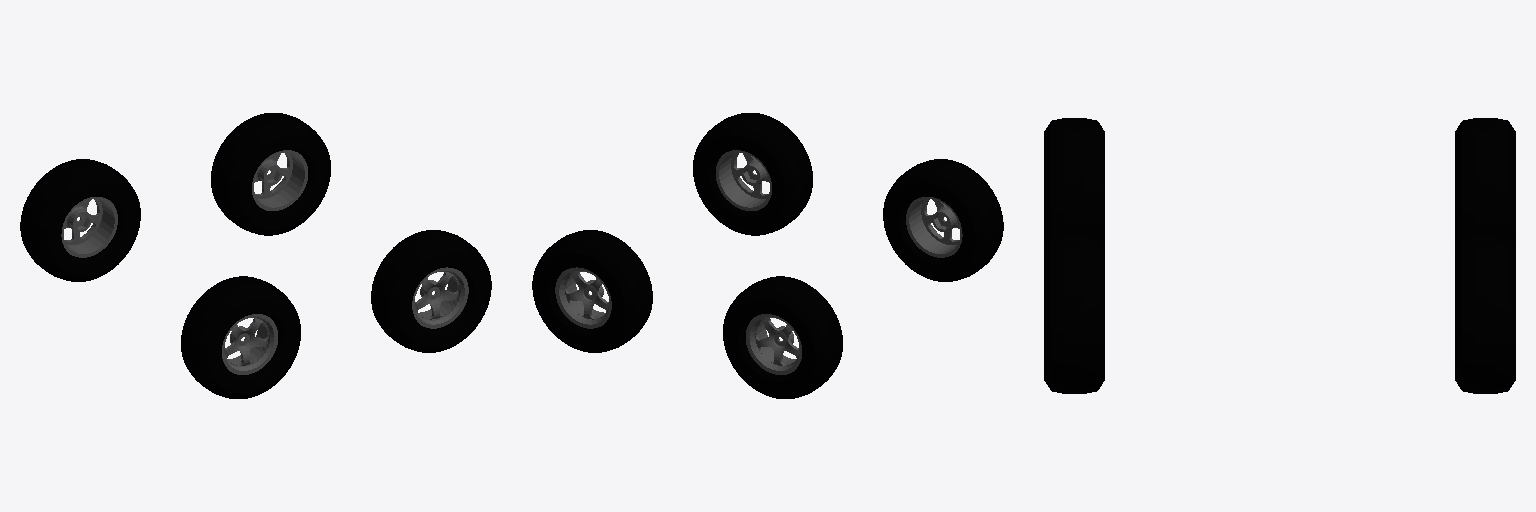
The robot description file, URDF, robot "rosbot_xl":
<?xml version="1.0" ?>
<!-- =================================================================================== -->
<!-- |    This document was autogenerated by xacro from [local-path]/ros2_ws/src/rosbot_xl_description/urdf/rosbot_xl.urdf.xacro | -->
<!-- |    EDITING THIS FILE BY HAND IS NOT RECOMMENDED                                 | -->
<!-- =================================================================================== -->
<robot name="rosbot_xl">
  <link name="base_link"/>
  <joint name="base_to_body_joint" type="fixed">
    <origin rpy="0.0 0.0 0.0" xyz="0.0 0.0 0.048"/>
    <parent link="base_link"/>
    <child link="body_link"/>
  </joint>
  <link name="body_link">
    <visual>
      <geometry>
        <mesh filename="meshes/body.fbx" scale="1 1 1"/>
      </geometry>
      <origin rpy="0.0 0.0 0.0" xyz="0.0 0.0 0.0"/>
    </visual>
    <collision>
      <geometry>
        <mesh filename="meshes/body_colision.stl" scale="1 1 1"/>
      </geometry>
      <origin rpy="0.0 0.0 0.0" xyz="0.0 0.0 0.0"/>
    </collision>
    <inertial>
      <mass value="3.5"/>
      <origin rpy="0.0 0.0 0.0" xyz="0.0 0.0 0.0358"/>
      <inertia ixx="0.01393" ixy="-0.000020968097" ixz="0.000010399694" iyy="0.01081" iyz="0.000059372953" izz="0.02048"/>
    </inertial>
  </link>
  <joint name="body_to_cover_joint" type="fixed">
    <origin rpy="0.0 0.0 0.0" xyz="0.0 0.0 0.08345"/>
    <parent link="body_link"/>
    <child link="cover_link"/>
  </joint>
  <link name="cover_link"/>
  <joint name="body_to_imu_joint" type="fixed">
    <origin rpy="3.14159 0.0 0.0" xyz="-0.1369 -0.0419 0.0370"/>
    <parent link="body_link"/>
    <child link="imu_link"/>
  </joint>
  <link name="imu_link"/>
  <joint name="fl_wheel_joint" type="continuous">
    <parent link="body_link"/>
    <child link="fl_wheel_link"/>
    <origin rpy="0.0 0.0 0.0" xyz="0.085 0.124 0.0"/>
    <axis xyz="0.0 1.0 0.0"/>
    <limit effort="1.27" velocity="21.0"/>
    <dynamics damping="0.001" friction="0.001"/>
  </joint>
  <link name="fl_wheel_link">
    <visual>
      <geometry>
        <mesh filename="meshes/wheel_b.dae" scale="1 1 1"/>
      </geometry>
      <origin rpy="0.0 0.0 3.141592653589793" xyz="0.0 0.0 0.0"/>
    </visual>
    <collision>
      <geometry>
        <cylinder length="0.036" radius="0.048"/>
      </geometry>
      <origin rpy="1.5707963267948966 0.0 0.0" xyz="0.0 0.0 0.0"/>
    </collision>
    <inertial>
      <mass value="0.051"/>
      <inertia ixx="5.0587413e-05" ixy="0.0" ixz="0.0" iyy="8.5933192e-05" iyz="0.0" izz="5.0587829e-05"/>
    </inertial>
  </link>
  <joint name="fr_wheel_joint" type="continuous">
    <parent link="body_link"/>
    <child link="fr_wheel_link"/>
    <origin rpy="0.0 0.0 0.0" xyz="0.085 -0.124 0.0"/>
    <axis xyz="0.0 1.0 0.0"/>
    <limit effort="1.27" velocity="21.0"/>
    <dynamics damping="0.001" friction="0.001"/>
  </joint>
  <link name="fr_wheel_link">
    <visual>
      <geometry>
        <mesh filename="meshes/wheel_a.dae" scale="1 1 1"/>
      </geometry>
      <origin rpy="0.0 0.0 3.141592653589793" xyz="0.0 0.0 0.0"/>
    </visual>
    <collision>
      <geometry>
        <cylinder length="0.036" radius="0.048"/>
      </geometry>
      <origin rpy="1.5707963267948966 0.0 0.0" xyz="0.0 0.0 0.0"/>
    </collision>
    <inertial>
      <mass value="0.051"/>
      <inertia ixx="5.0587413e-05" ixy="0.0" ixz="0.0" iyy="8.5933192e-05" iyz="0.0" izz="5.0587829e-05"/>
    </inertial>
  </link>
  <joint name="rl_wheel_joint" type="continuous">
    <parent link="body_link"/>
    <child link="rl_wheel_link"/>
    <origin rpy="0.0 0.0 0.0" xyz="-0.085 0.124 0.0"/>
    <axis xyz="0.0 1.0 0.0"/>
    <limit effort="1.27" velocity="21.0"/>
    <dynamics damping="0.001" friction="0.001"/>
  </joint>
  <link name="rl_wheel_link">
    <visual>
      <geometry>
        <mesh filename="meshes/wheel_a.dae" scale="1 1 1"/>
      </geometry>
      <origin rpy="0.0 0.0 0.0" xyz="0.0 0.0 0.0"/>
    </visual>
    <collision>
      <geometry>
        <cylinder length="0.036" radius="0.048"/>
      </geometry>
      <origin rpy="1.5707963267948966 0.0 0.0" xyz="0.0 0.0 0.0"/>
    </collision>
    <inertial>
      <mass value="0.051"/>
      <inertia ixx="5.0587413e-05" ixy="0.0" ixz="0.0" iyy="8.5933192e-05" iyz="0.0" izz="5.0587829e-05"/>
    </inertial>
  </link>
  <joint name="rr_wheel_joint" type="continuous">
    <parent link="body_link"/>
    <child link="rr_wheel_link"/>
    <origin rpy="0.0 0.0 0.0" xyz="-0.085 -0.124 0.0"/>
    <axis xyz="0.0 1.0 0.0"/>
    <limit effort="1.27" velocity="21.0"/>
    <dynamics damping="0.001" friction="0.001"/>
  </joint>
  <link name="rr_wheel_link">
    <visual>
      <geometry>
        <mesh filename="meshes/wheel_b.dae" scale="1 1 1"/>
      </geometry>
      <origin rpy="0.0 0.0 0.0" xyz="0.0 0.0 0.0"/>
    </visual>
    <collision>
      <geometry>
        <cylinder length="0.036" radius="0.048"/>
      </geometry>
      <origin rpy="1.5707963267948966 0.0 0.0" xyz="0.0 0.0 0.0"/>
    </collision>
    <inertial>
      <mass value="0.051"/>
      <inertia ixx="5.0587413e-05" ixy="0.0" ixz="0.0" iyy="8.5933192e-05" iyz="0.0" izz="5.0587829e-05"/>
    </inertial>
  </link>
  <ros2_control name="imu" type="sensor">
    <hardware>
      <plugin>rosbot_hardware_interfaces/RosbotImuSensor</plugin>
      <param name="connection_timeout_ms">120000</param>
      <param name="connection_check_period_ms">500</param>
    </hardware>
    <sensor name="imu">
      <state_interface name="orientation.x"/>
      <state_interface name="orientation.y"/>
      <state_interface name="orientation.z"/>
      <state_interface name="orientation.w"/>
      <state_interface name="angular_velocity.x"/>
      <state_interface name="angular_velocity.y"/>
      <state_interface name="angular_velocity.z"/>
      <state_interface name="linear_acceleration.x"/>
      <state_interface name="linear_acceleration.y"/>
      <state_interface name="linear_acceleration.z"/>
    </sensor>
  </ros2_control>
  <ros2_control name="wheels" type="system">
    <hardware>
      <plugin>rosbot_hardware_interfaces/RosbotSystem</plugin>
      <param name="connection_timeout_ms">120000</param>
      <param name="connection_check_period_ms">500</param>
      <!-- order of velocity commands to be published in motors_cmd Float32MultiArray msg -->
      <param name="velocity_command_joint_order">
                rr_wheel_joint,
                rl_wheel_joint,
                fr_wheel_joint,
                fl_wheel_joint
          </param>
    </hardware>
    <joint name="fl_wheel_joint">
      <command_interface name="velocity"/>
      <state_interface name="position"/>
      <state_interface name="velocity"/>
    </joint>
    <joint name="fr_wheel_joint">
      <command_interface name="velocity"/>
      <state_interface name="position"/>
      <state_interface name="velocity"/>
    </joint>
    <joint name="rl_wheel_joint">
      <command_interface name="velocity"/>
      <state_interface name="position"/>
      <state_interface name="velocity"/>
    </joint>
    <joint name="rr_wheel_joint">
      <command_interface name="velocity"/>
      <state_interface name="position"/>
      <state_interface name="velocity"/>
    </joint>
  </ros2_control>
</robot>

--- What the picture shows (computed from the rendered views, not written in the file) ---
Views: 3 orthographic renders of the robot side by side, from view 1: azimuth 30°, elevation 25°; view 2: azimuth 150°, elevation 25°; view 3: azimuth 270°, elevation 25°.
Model rosbot_xl with 8 links and 7 joints (4 continuous, 3 fixed), rooted at base_link, posed every joint at zero.
Visible links, largest first — view 1: fr_wheel_link, rr_wheel_link, rl_wheel_link, fl_wheel_link; view 2: fl_wheel_link, rl_wheel_link, rr_wheel_link, fr_wheel_link; view 3: fl_wheel_link, fr_wheel_link, rl_wheel_link, rr_wheel_link.
Link boxes in pixels (x1,y1,x2,y2): fr_wheel_link: (371, 230, 491, 352); rr_wheel_link: (181, 276, 300, 398); rl_wheel_link: (20, 159, 140, 281); fl_wheel_link: (211, 113, 330, 235); fl_wheel_link: (532, 230, 652, 352); rl_wheel_link: (723, 276, 842, 398); rr_wheel_link: (883, 159, 1003, 281); fr_wheel_link: (693, 113, 812, 235); fl_wheel_link: (1455, 237, 1515, 393); fr_wheel_link: (1044, 237, 1104, 393); rl_wheel_link: (1455, 118, 1515, 249); rr_wheel_link: (1044, 118, 1104, 249).
Bounding box of the posed robot: 0.2647 × 0.2843 × 0.0949 m (x, y, z).
4 mesh visuals loaded from 3 distinct referenced files (2 Collada DAE); not drawn: 1 (reference not matched to a file when rendering).